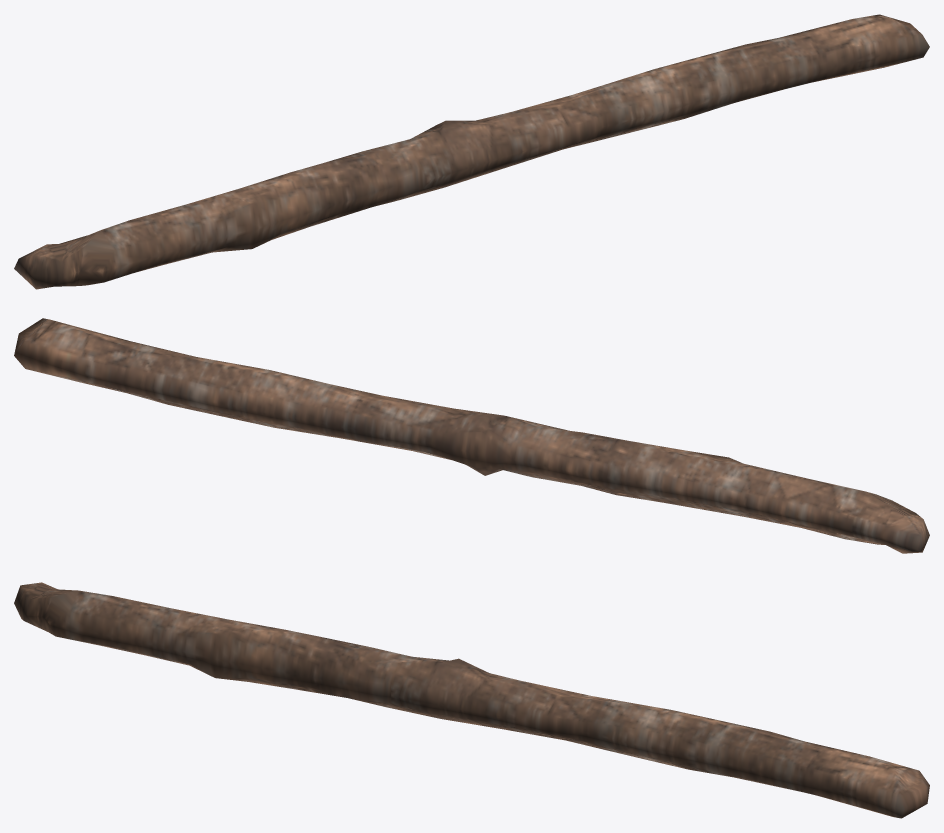
File: Tree_Twig03.fbx
3 renders of one model, top to bottom at view 1: azimuth 30°, elevation 25°; view 2: azimuth 150°, elevation 25°; view 3: azimuth 330°, elevation 25°, orthographic. The views are drawn at different scales.
Parts seen in each view (by area): view 1: Tree_Twig03; view 2: Tree_Twig03; view 3: Tree_Twig03.
Boxes of the visible parts, x1,y1,x2,y2 form: Tree_Twig03: (14, 14, 929, 289); Tree_Twig03: (14, 318, 929, 553); Tree_Twig03: (14, 582, 929, 818).
Size of the model in its own units: 45.29 by 2.8 by 5.3.
Materials: 1 (1 with a texture image).
